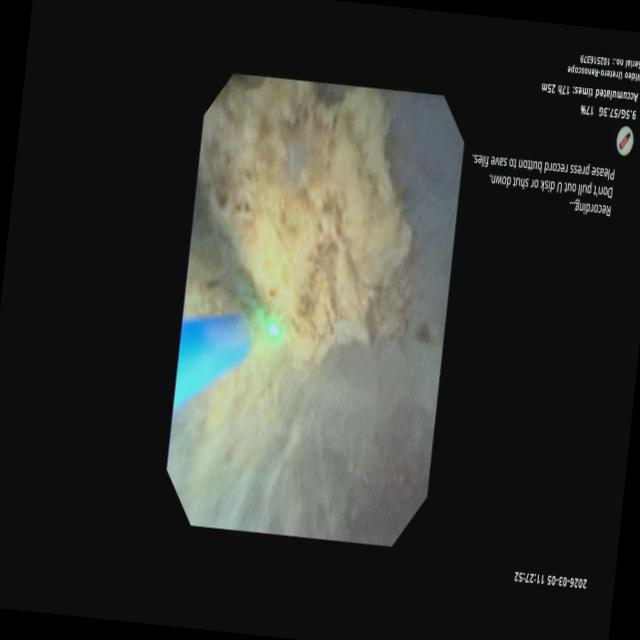laser_dot: (265, 318, 282, 346)
stone-new: (167, 77, 411, 522)
